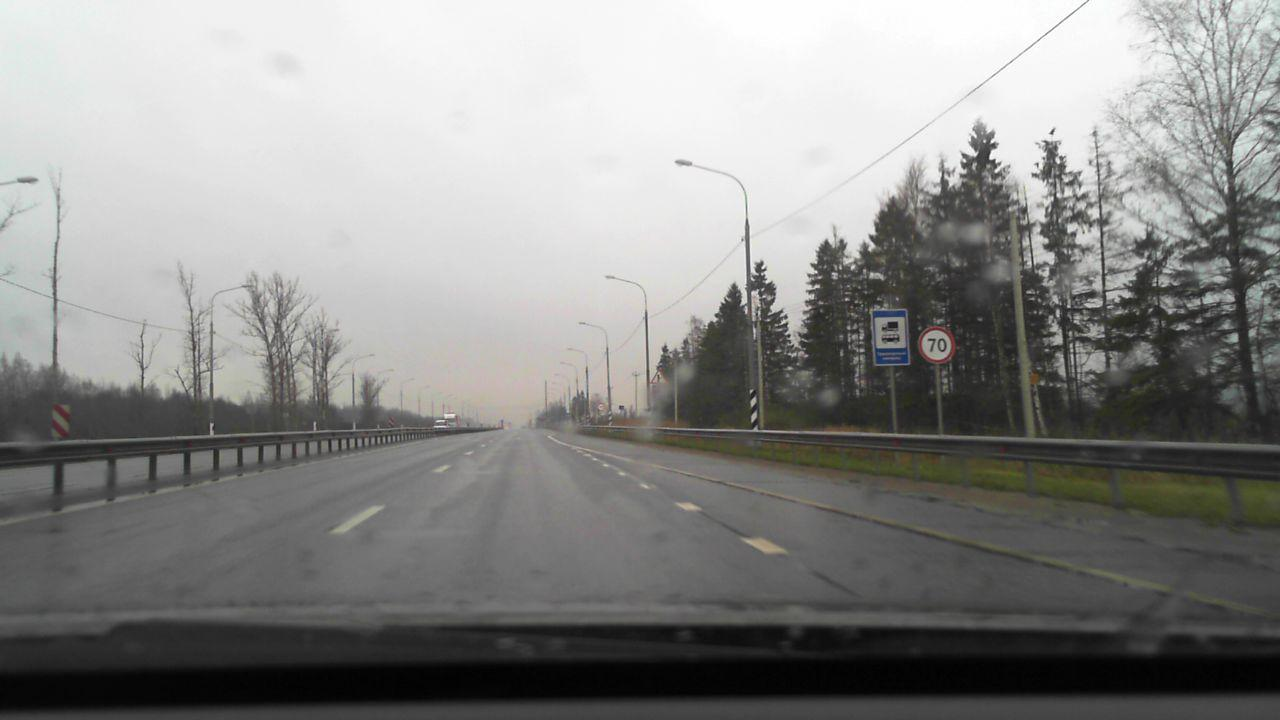2_3_2: (650, 368, 669, 386)
3_24: (920, 323, 956, 363)
7_14_2: (871, 309, 910, 365)
